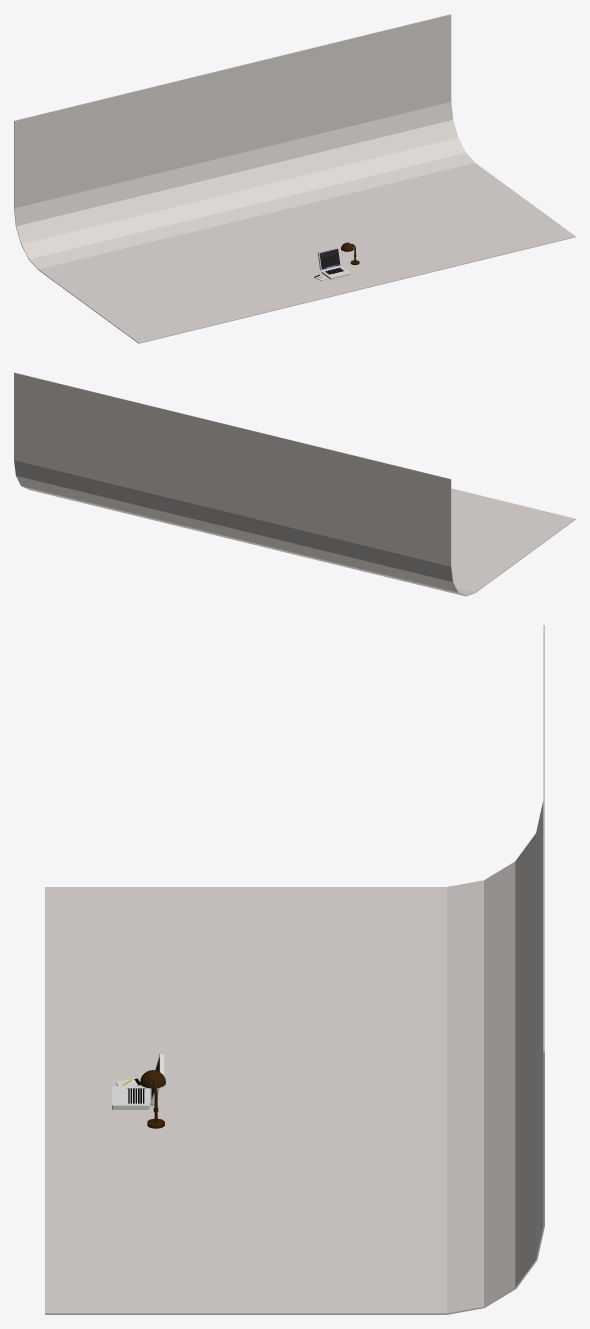
File: laptop2.gltf
The picture shows the model from 3 angles, top to bottom: view 1: azimuth 30°, elevation 25°; view 2: azimuth 150°, elevation 25°; view 3: azimuth 270°, elevation 25°; orthographic projection. The views are drawn at different scales.
Visible parts, largest first — view 1: Plane; view 2: Plane; view 3: Plane.
Boxes of the visible parts, box(x1,y1,x2,y2) form: Plane: box(14, 14, 575, 343); Plane: box(14, 372, 575, 596); Plane: box(45, 625, 544, 1314).
Bounding box in the file's own units: 6.58 × 1.89 × 3.26.
Materials: 10 (1 with a texture image).
